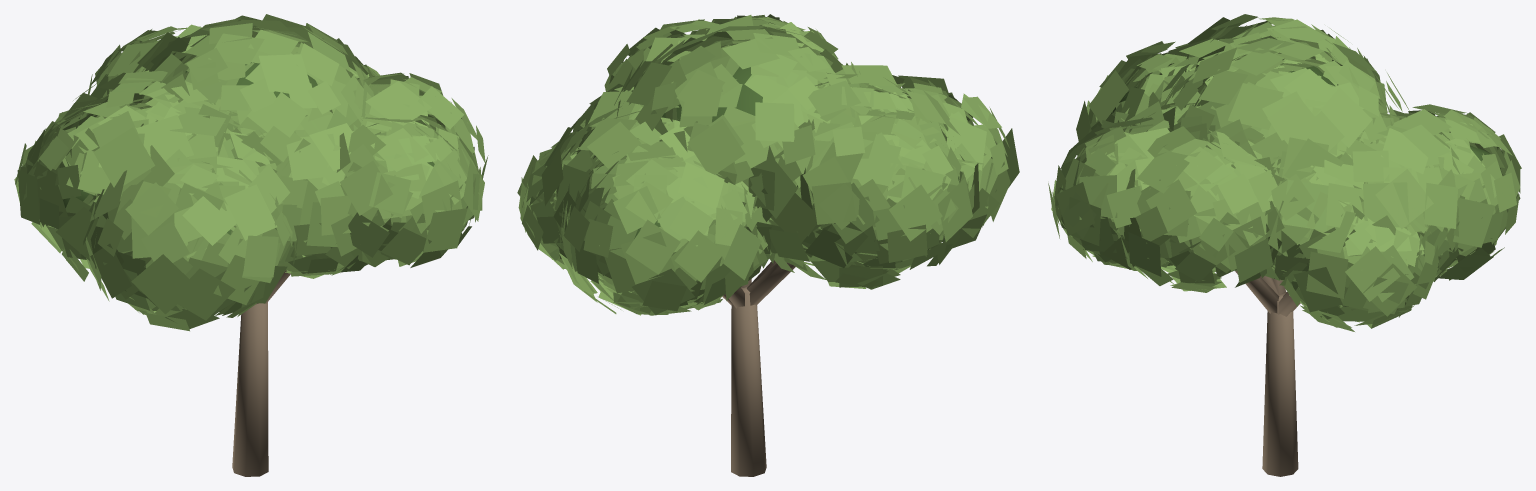
The model's file is arbre_neem3.glb.
3 renders of one model, left to right at view 1: azimuth 30°, elevation 25°; view 2: azimuth 150°, elevation 25°; view 3: azimuth 270°, elevation 25°, orthographic. The views are drawn at different scales.
Parts seen in each view (by area): view 1: arbre_neem3; view 2: arbre_neem3; view 3: arbre_neem3.
Part boxes in pixels (x1,y1,x2,y2): arbre_neem3: [14, 14, 488, 476]; arbre_neem3: [517, 14, 1019, 476]; arbre_neem3: [1048, 14, 1521, 476].
Size of the model in its own units: 7.92 by 8.21 by 8.43.
